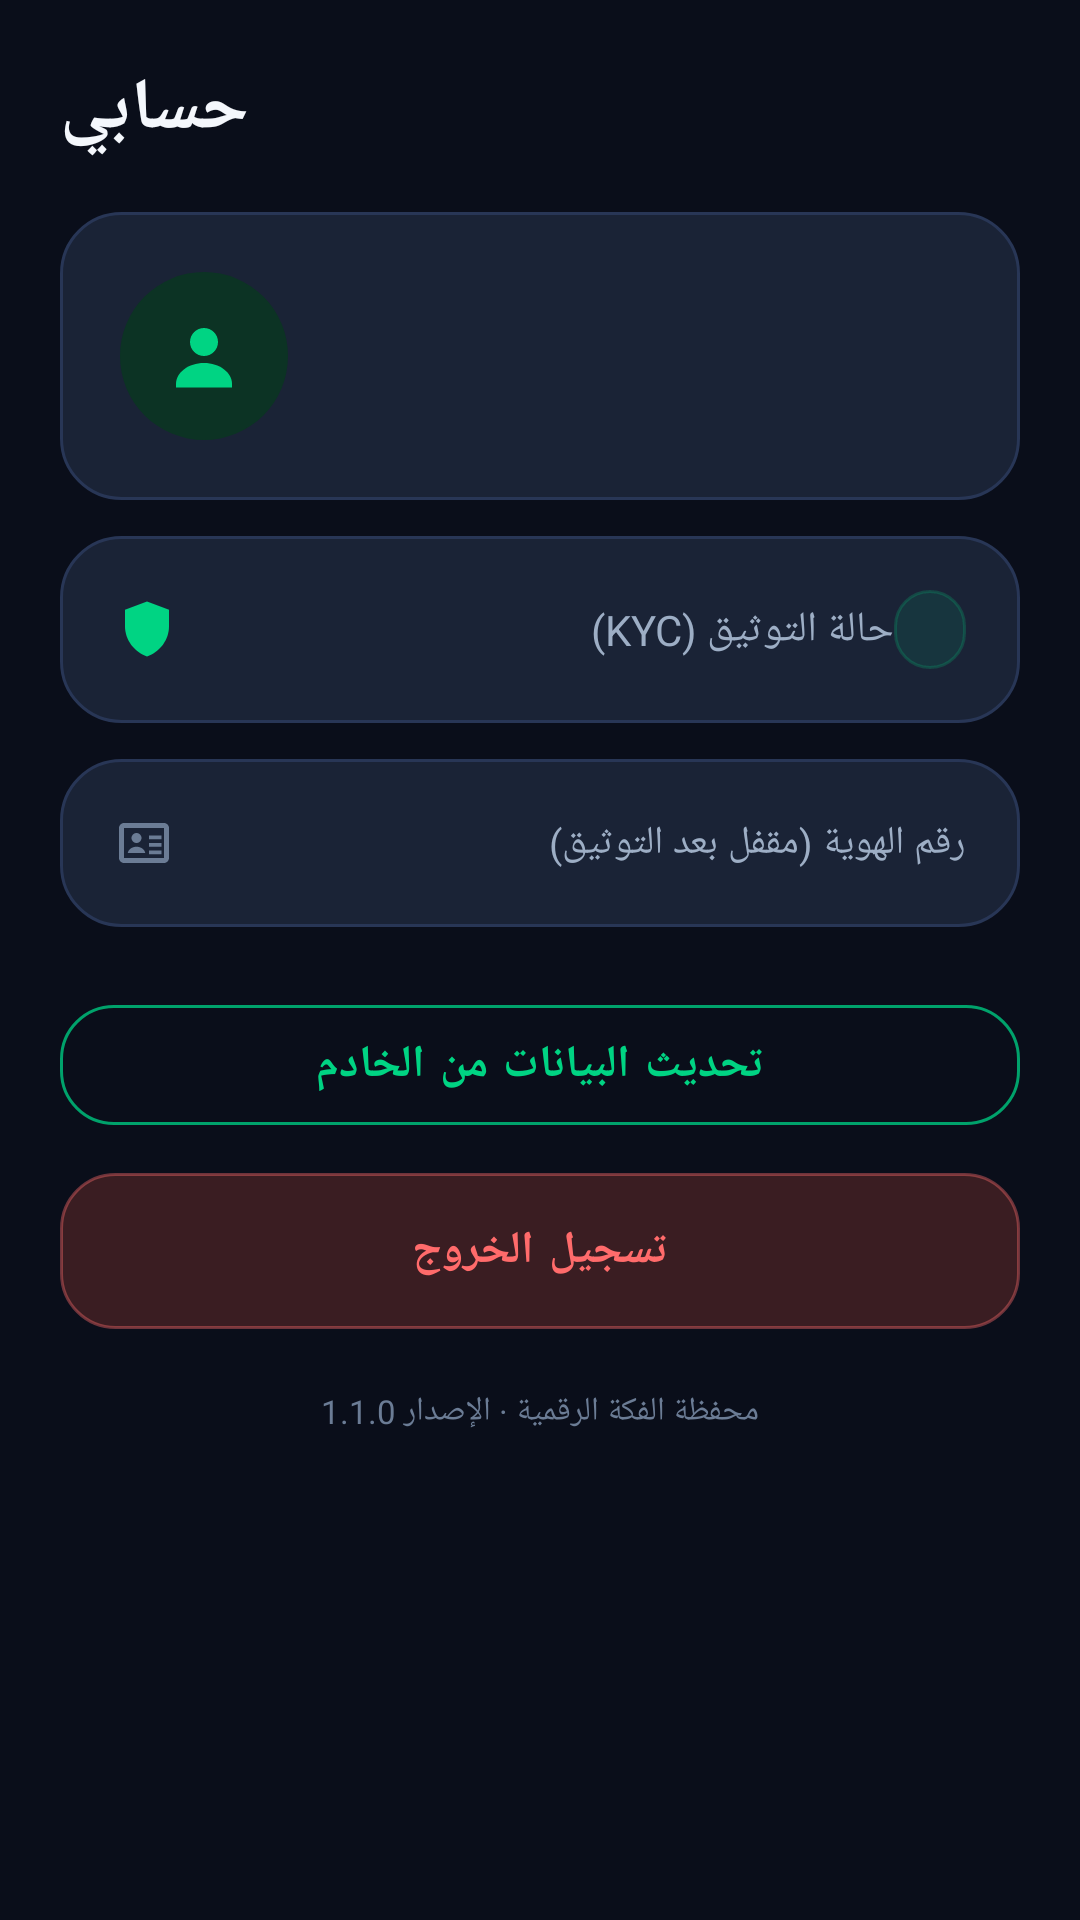

Locate icon controls on the screen. Image size 1080×1920, boxes as (x1, y1, x2, y2).
profile: (176, 328, 232, 388)
shield: (125, 601, 169, 657)
